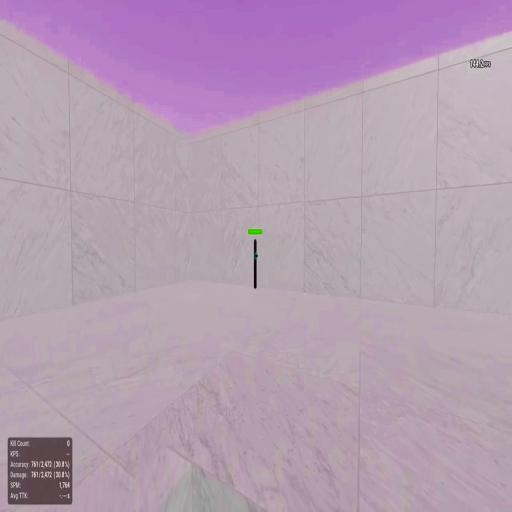Crosshair: (253, 252, 259, 260)
Target: (254, 238, 257, 290)
